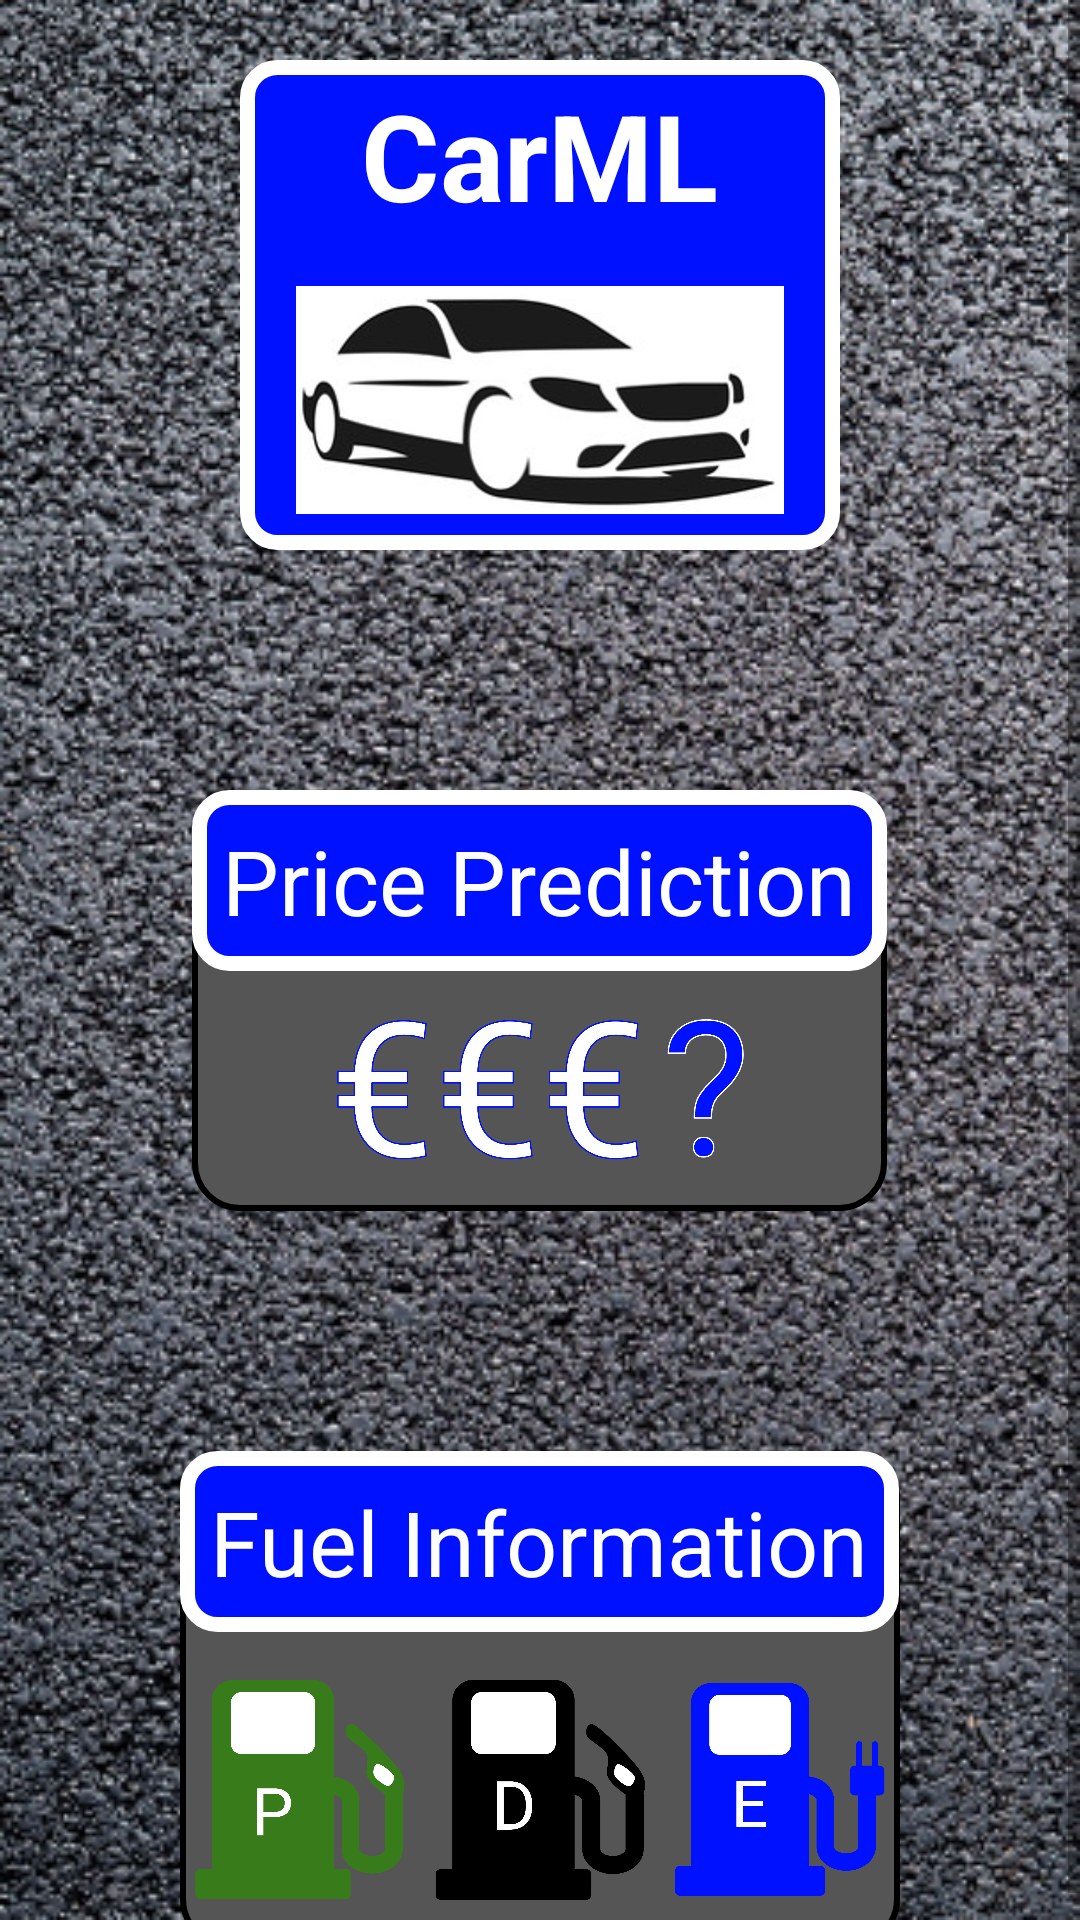

Locate icon controls on the screen. Image size 1080px×1920px, boxes as [x1, y1, x2, y2].
Diesel: [436, 1680, 645, 1900]
Electric: [675, 1683, 884, 1896]
Petrol: [195, 1680, 404, 1899]
